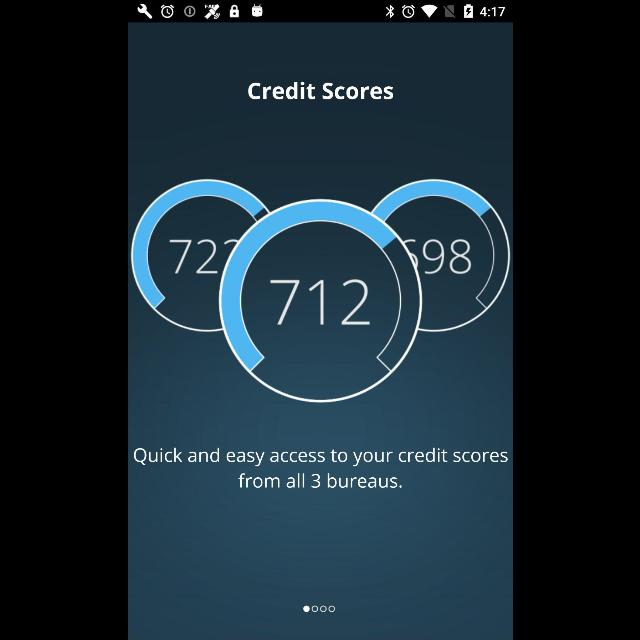image: (130, 179, 510, 405)
pageindicator: (302, 606, 334, 612)
text: (132, 447, 508, 489), (247, 82, 393, 100)
uppertaskbar: (128, 1, 512, 23)
